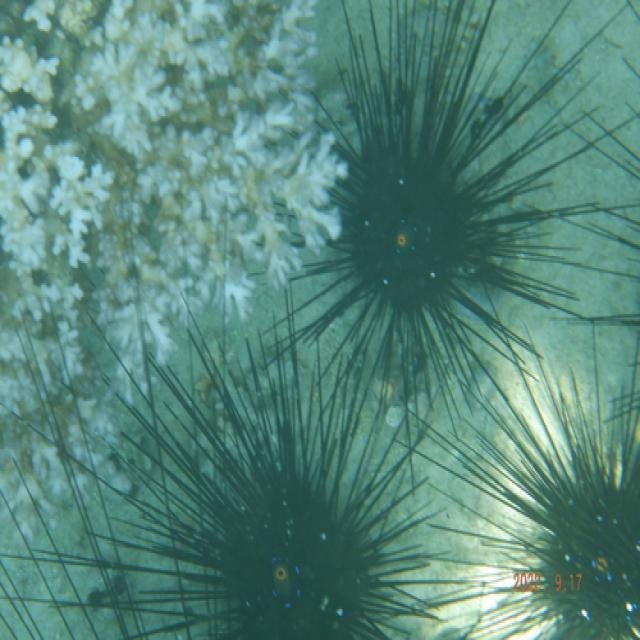Urchin: (248, 1, 600, 438), (64, 278, 440, 640), (397, 319, 640, 640)
